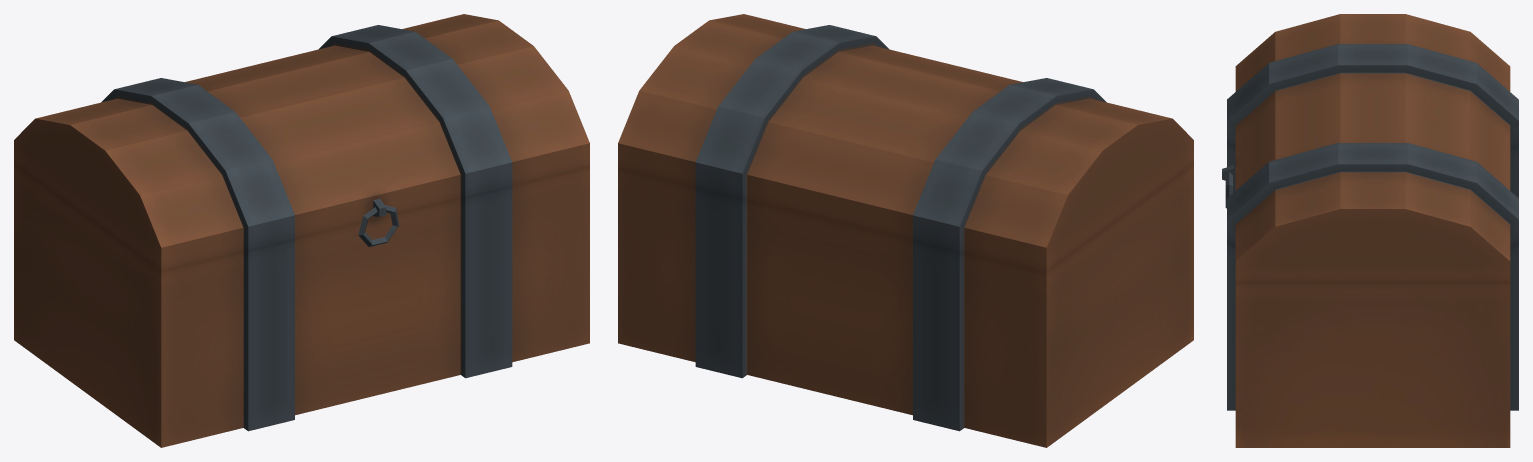
Rendered from Chest noUse.fbx.
The picture shows the model from 3 angles, left to right: view 1: azimuth 30°, elevation 25°; view 2: azimuth 150°, elevation 25°; view 3: azimuth 270°, elevation 25°; orthographic projection. The views are drawn at different scales.
Visible parts, largest first — view 1: polySurface6, polySurface7, polySurface9; view 2: polySurface6, polySurface7; view 3: polySurface7, polySurface6.
Part boxes in pixels (<box>): polySurface6: <box>14,164,589,447</box>; polySurface7: <box>14,14,589,271</box>; polySurface9: <box>358,205,399,246</box>; polySurface6: <box>618,164,1193,447</box>; polySurface7: <box>618,14,1193,271</box>; polySurface7: <box>1227,14,1518,283</box>; polySurface6: <box>1227,144,1518,447</box>.
Size of the model in its own units: 168 by 99.01 by 108.
Materials: 1 (1 with a texture image).
